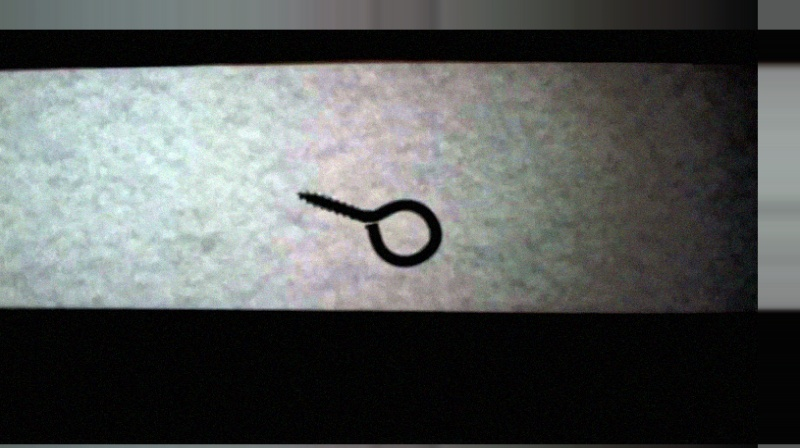O001: (293, 185, 446, 270)
